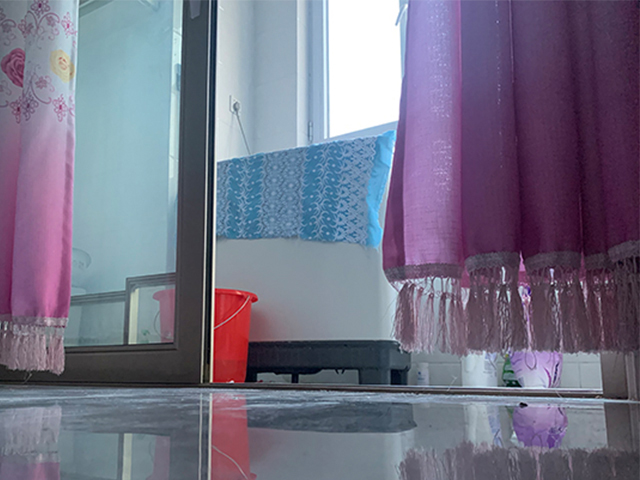curtain: (381, 1, 640, 356), (1, 1, 78, 376)
